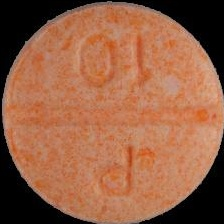50090-0147: (0, 0, 224, 224)
